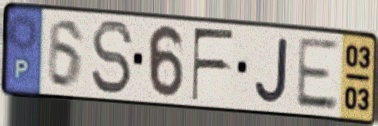6: (146, 22, 185, 102), (45, 18, 87, 91)
E: (294, 35, 340, 112)
F: (190, 27, 237, 104)
J: (252, 35, 291, 106)
S: (89, 18, 135, 98)
